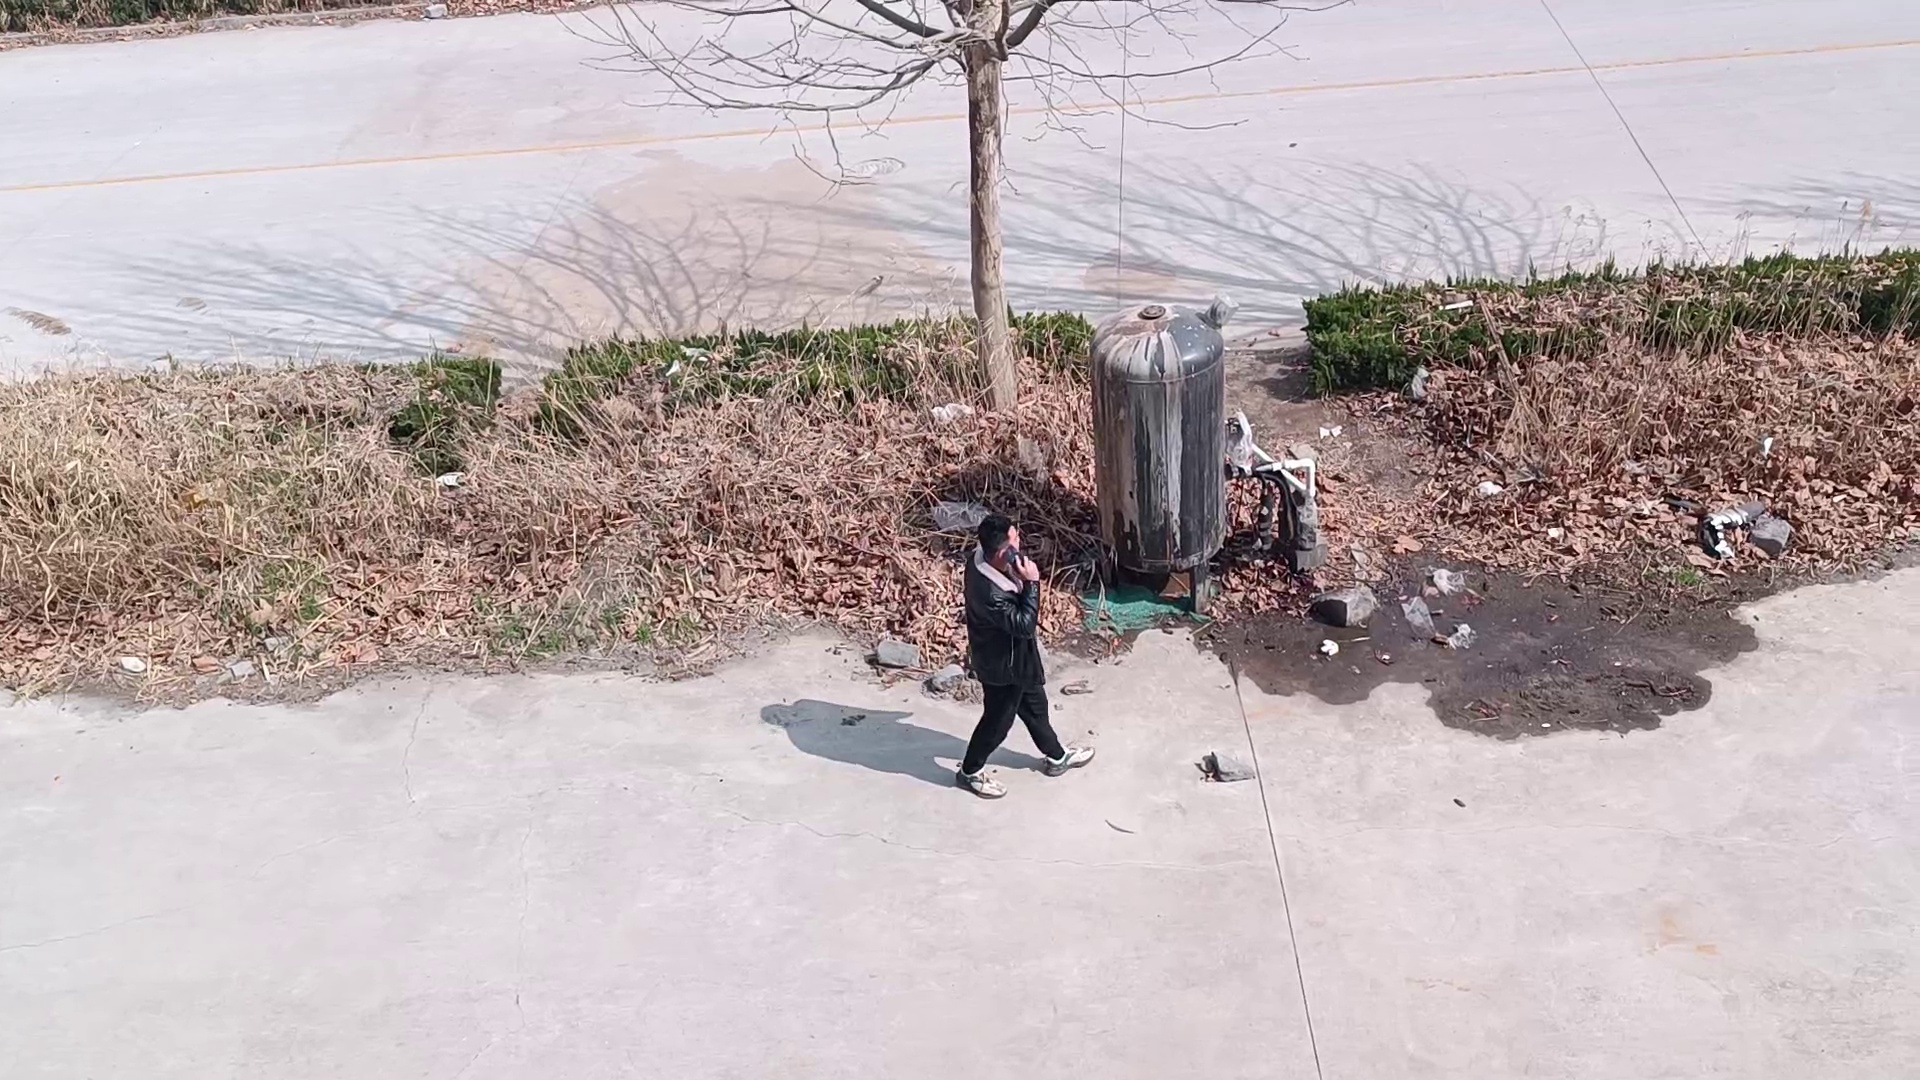phone: (964, 509, 1040, 579)
